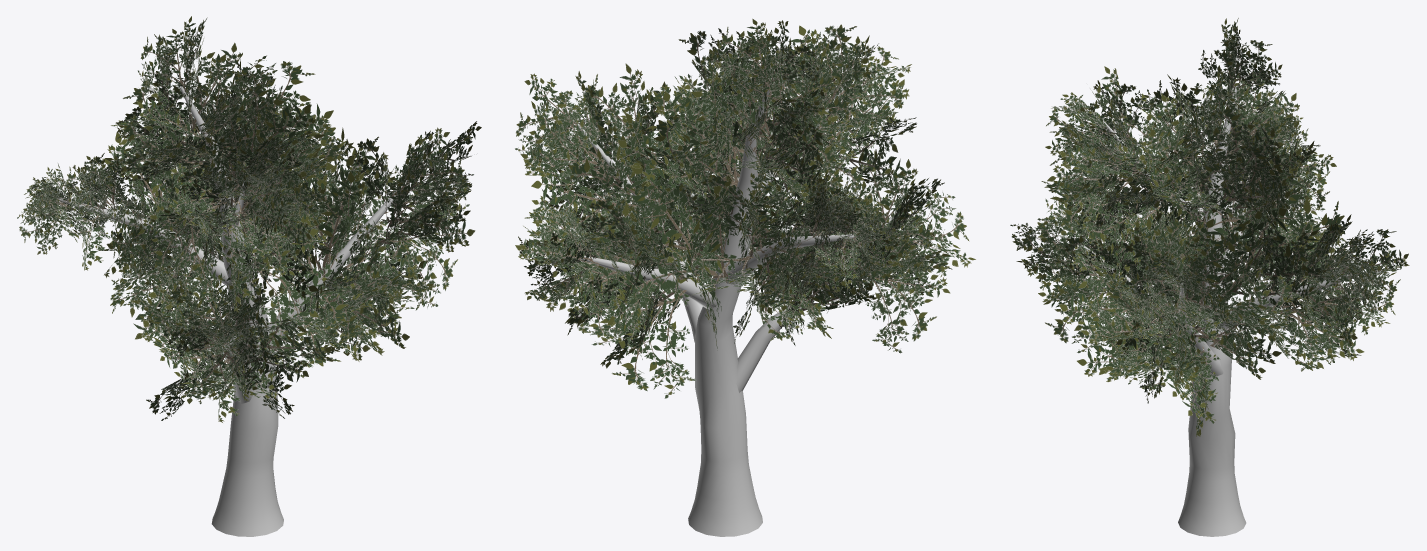
The model's file is Tree3.fbx.
3 views of the same model, side by side, from view 1: azimuth 30°, elevation 25°; view 2: azimuth 150°, elevation 25°; view 3: azimuth 270°, elevation 25° (orthographic). The views are drawn at different scales.
Parts seen in each view (by area): view 1: Tree3; view 2: Tree3; view 3: Tree3.
Part boxes in pixels (bbox=[...]): Tree3: bbox=[17, 16, 481, 536]; Tree3: bbox=[515, 18, 975, 536]; Tree3: bbox=[1010, 18, 1409, 536].
Size of the model in its own units: 7.01 by 8.4 by 6.47.
